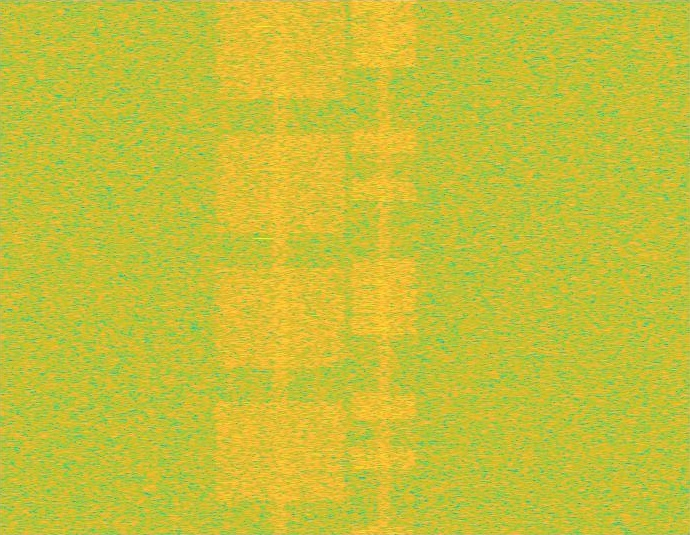5G: (212, 0, 350, 534)
DSSS: (271, 0, 290, 534), (376, 0, 392, 534)
LTE: (350, 0, 419, 534)
Radar: (256, 0, 270, 534)
